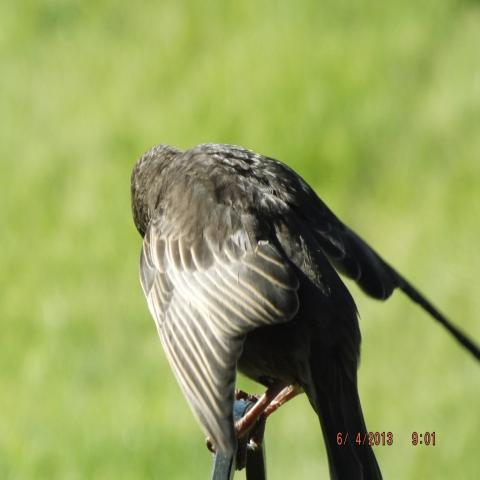bird: (128, 139, 476, 477)
